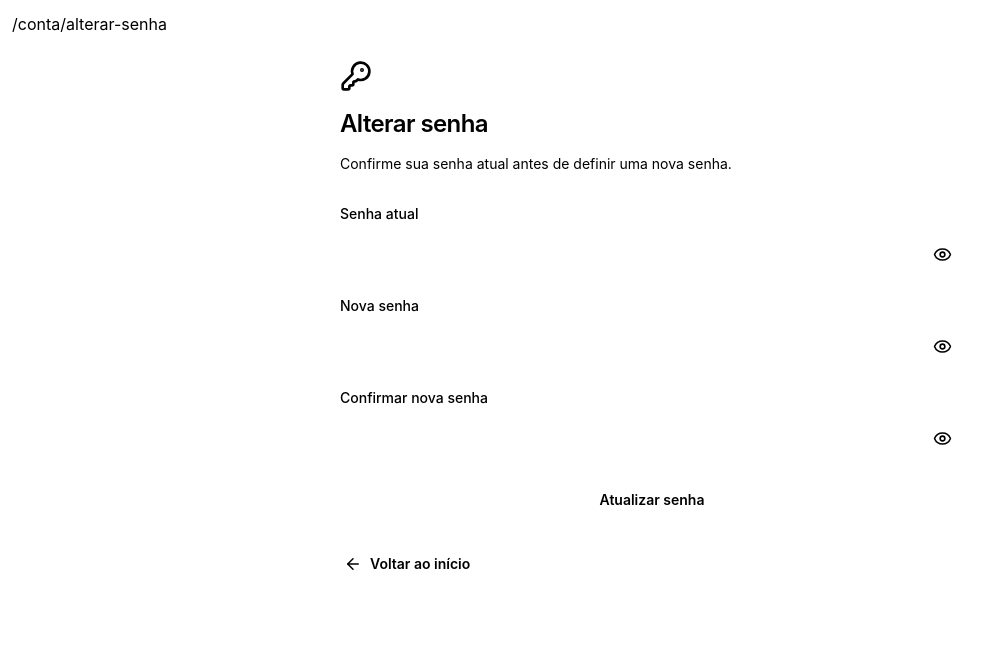
Test: UpdatePasswordPage › mantém os campos, a sessão e permite tentar novamente após falha
The image size is (982, 652).
Type "senha-atual" into the password field labelled "Senha atual".
click(652, 254); type("senha-atual")  # box [340,232,964,276]
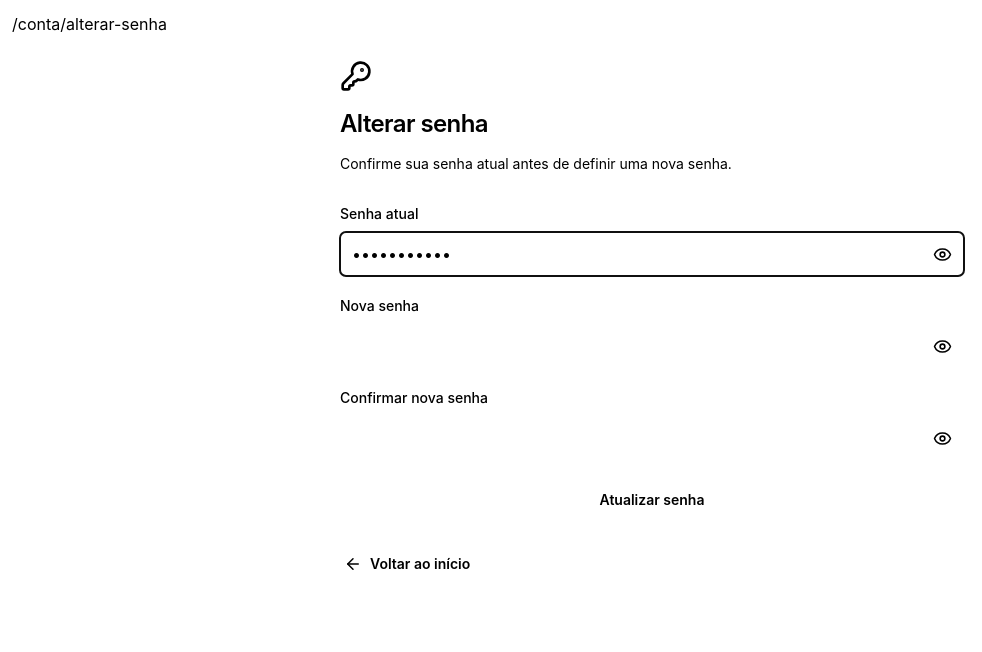
Type "senha-nova" into the password field labelled "Nova senha".
click(652, 346); type("senha-nova")  # box [340,324,964,368]
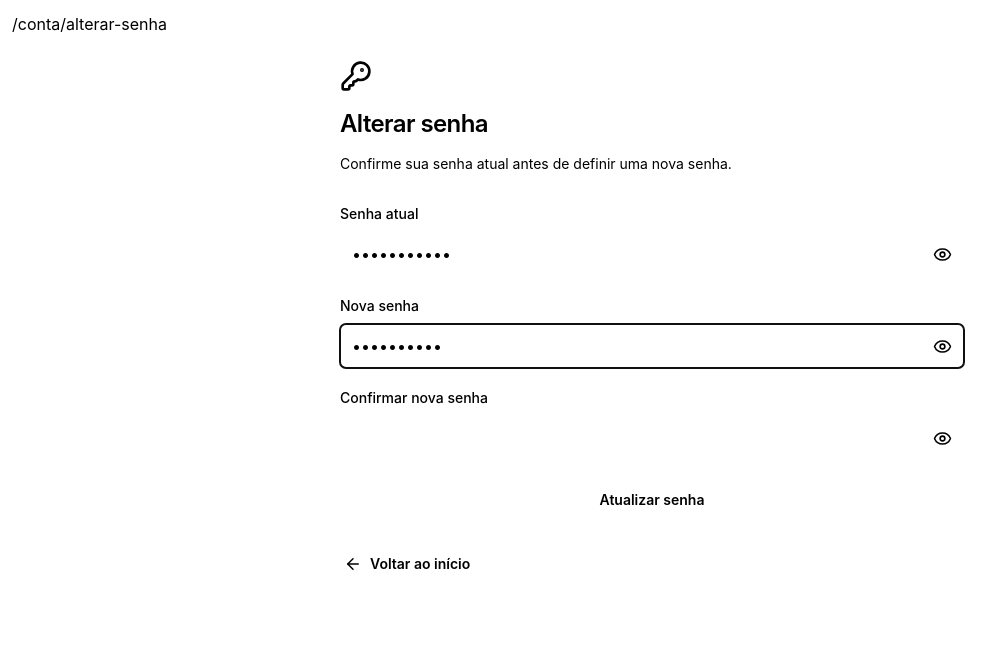
Type "senha-nova" into the password field labelled "Confirmar nova senha".
click(652, 438); type("senha-nova")  # box [340,416,964,460]
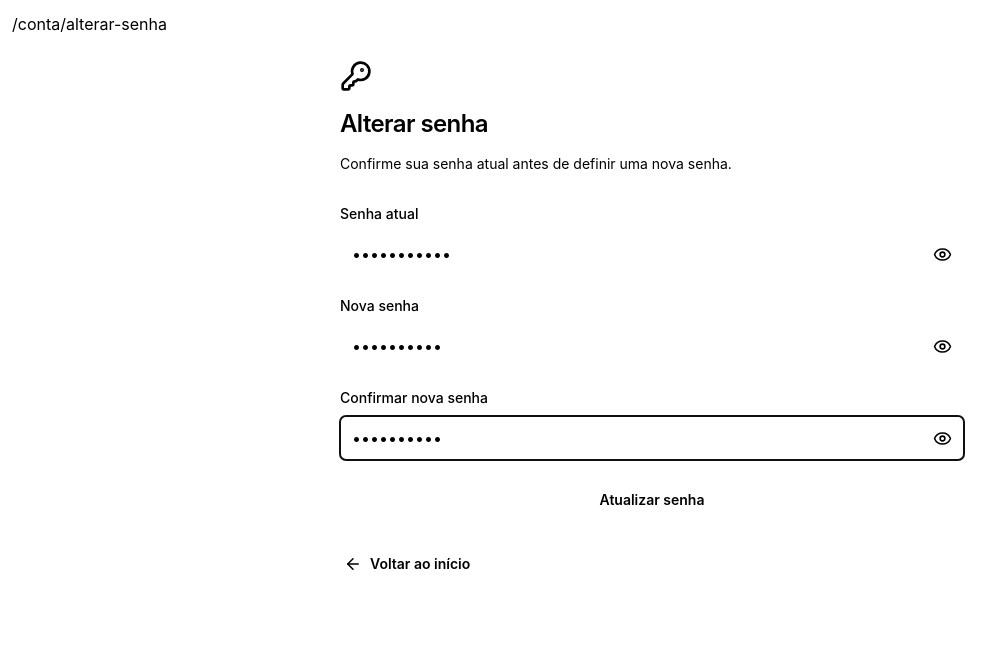
Click the button "Atualizar senha".
click(652, 500)  # box [340,480,964,520]
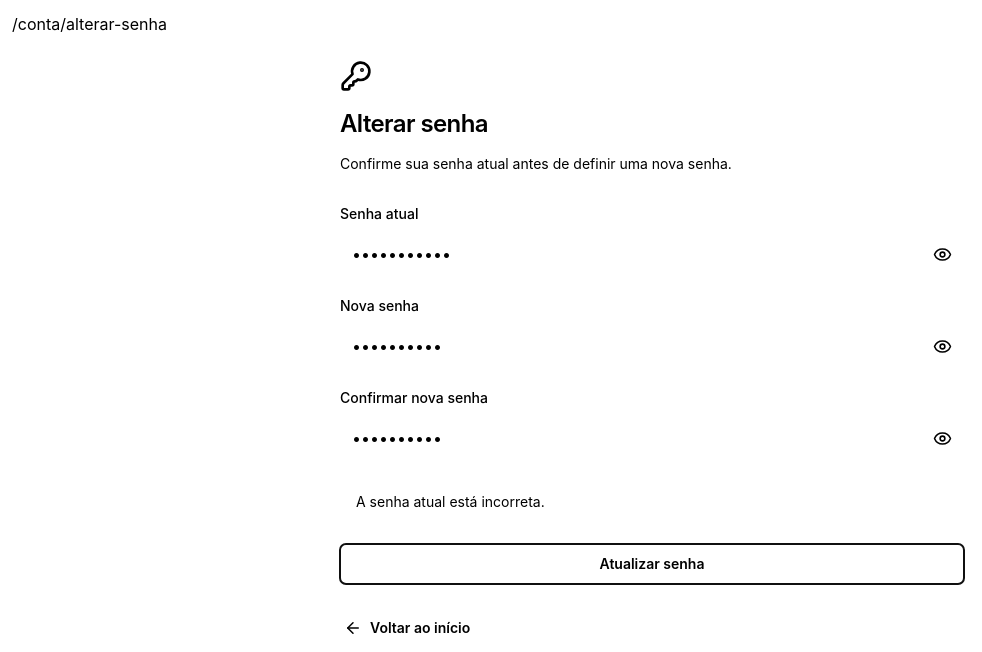
Expected: the text with test id "location" reads "/conta/alterar-senha", [12,14,167,34]
Expected: the message reads "A senha atual está incorreta.", [356,493,545,510]
Click the button "Atualizar senha".
click(652, 564)  # box [340,544,964,584]
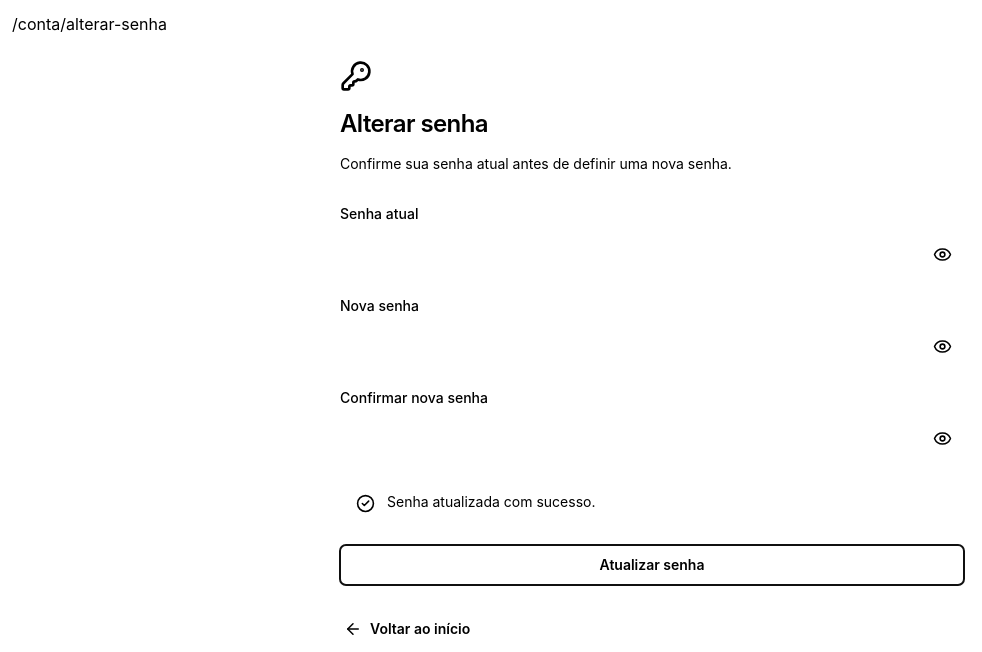
Expected: the message reads "Senha atualizada com sucesso.", [387,493,596,510]
